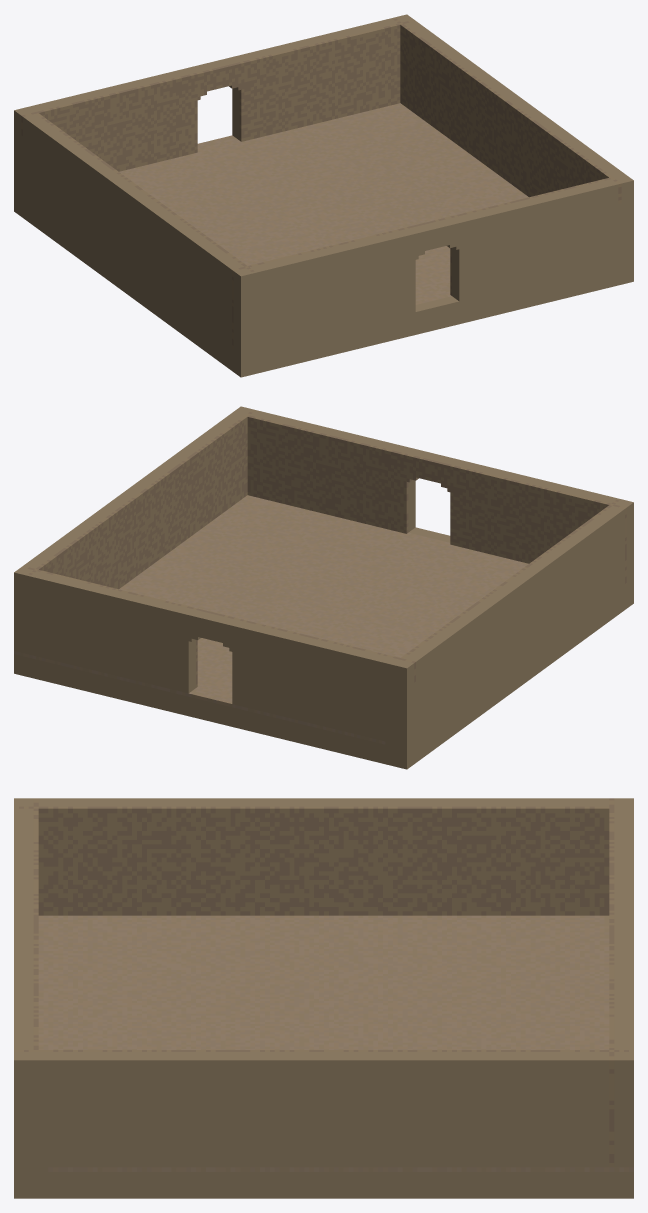
File: SmallRoom1-1.obj
The picture shows the model from 3 angles, top to bottom: view 1: azimuth 30°, elevation 25°; view 2: azimuth 150°, elevation 25°; view 3: azimuth 270°, elevation 25°; orthographic projection. The views are drawn at different scales.
Bounding box in the file's own units: 12.6 × 3.1 × 12.6.
1 material, 1 textured.
